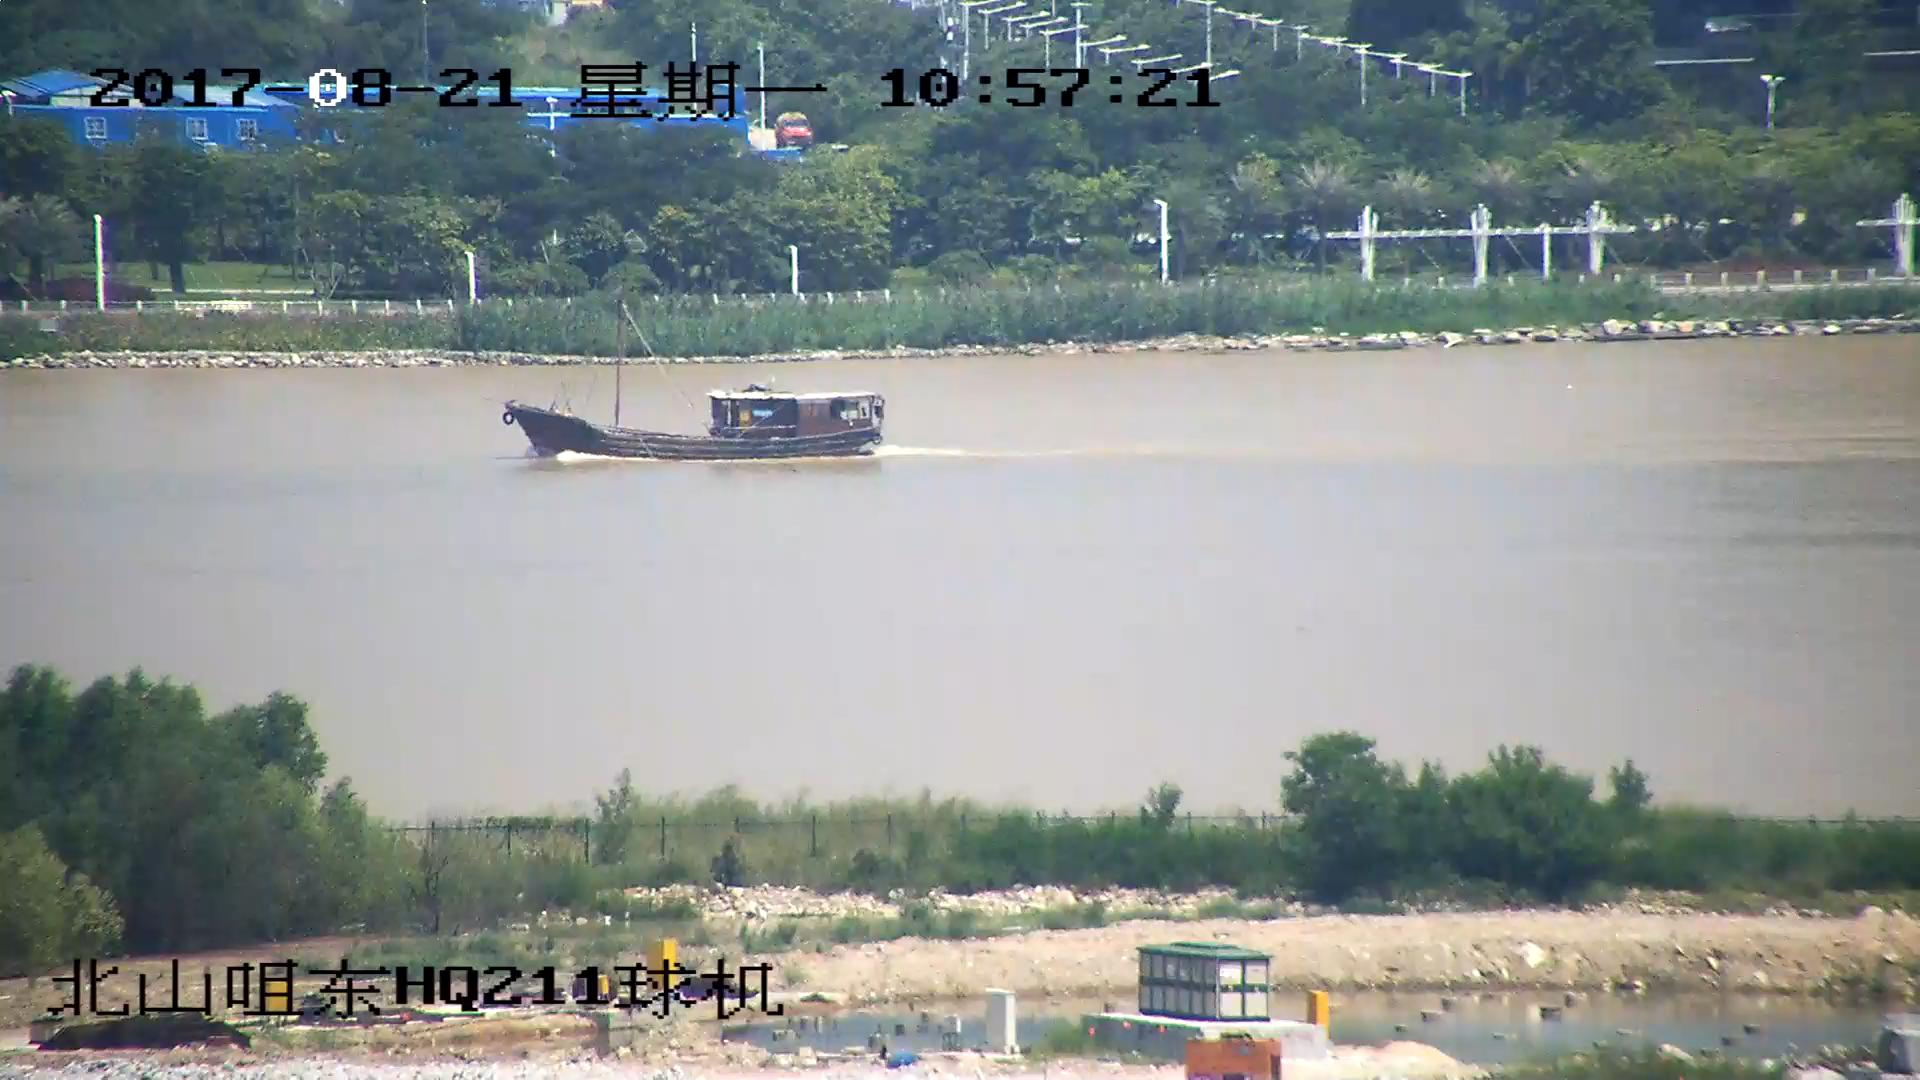fishing boat: (502, 308, 887, 458)
